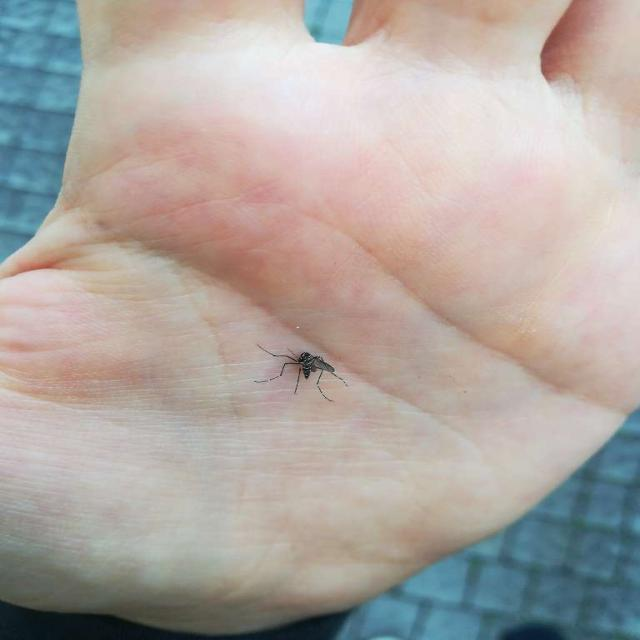albopictus: (252, 338, 352, 403)
